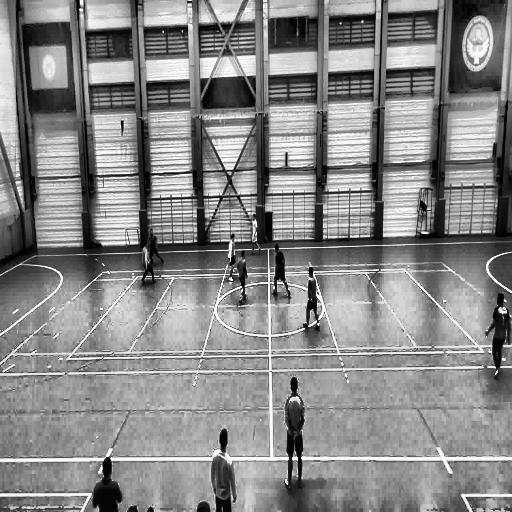ball: (272, 285, 276, 294)
player: (281, 377, 304, 490), (484, 292, 510, 379), (213, 428, 237, 512), (304, 265, 320, 330), (272, 244, 289, 298), (146, 228, 166, 268), (141, 239, 156, 284), (238, 250, 248, 302), (227, 233, 236, 282), (251, 213, 260, 254)
